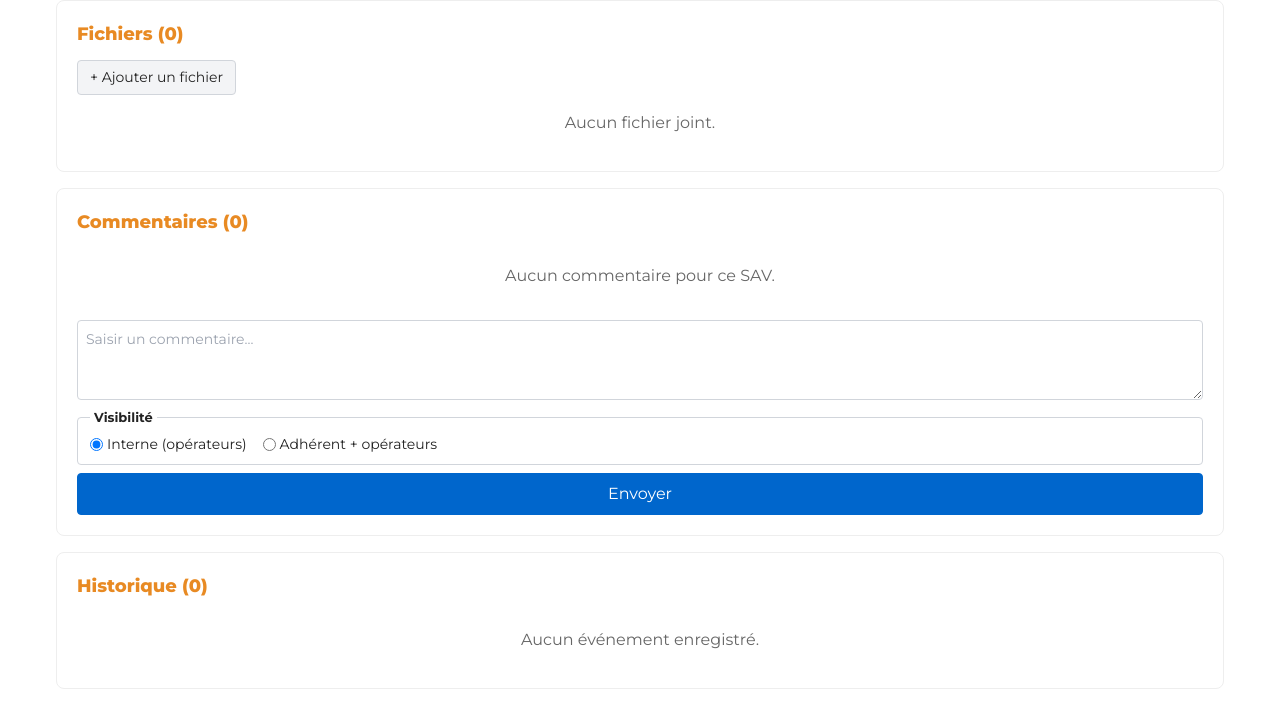
Test: SavDetailView — ComposeCommentForm inline (Story 3.7b AC#14) › SC-03: rollback sur erreur 5xx — optimistic comment removed, toast shown
(page scrolled)
In the text box named "Nouveau commentaire": [640, 360] box [77,320,1203,400], type "Should be rolled back"
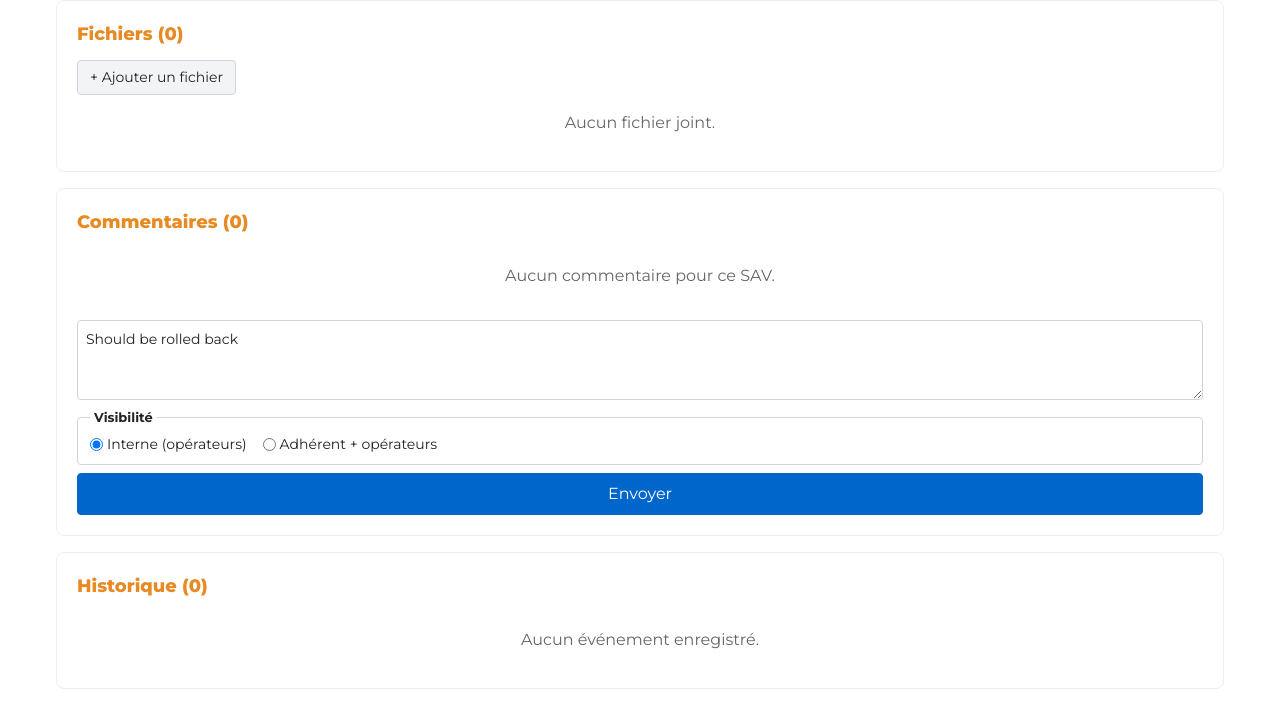
Submit the form, box [77,320,1203,514]
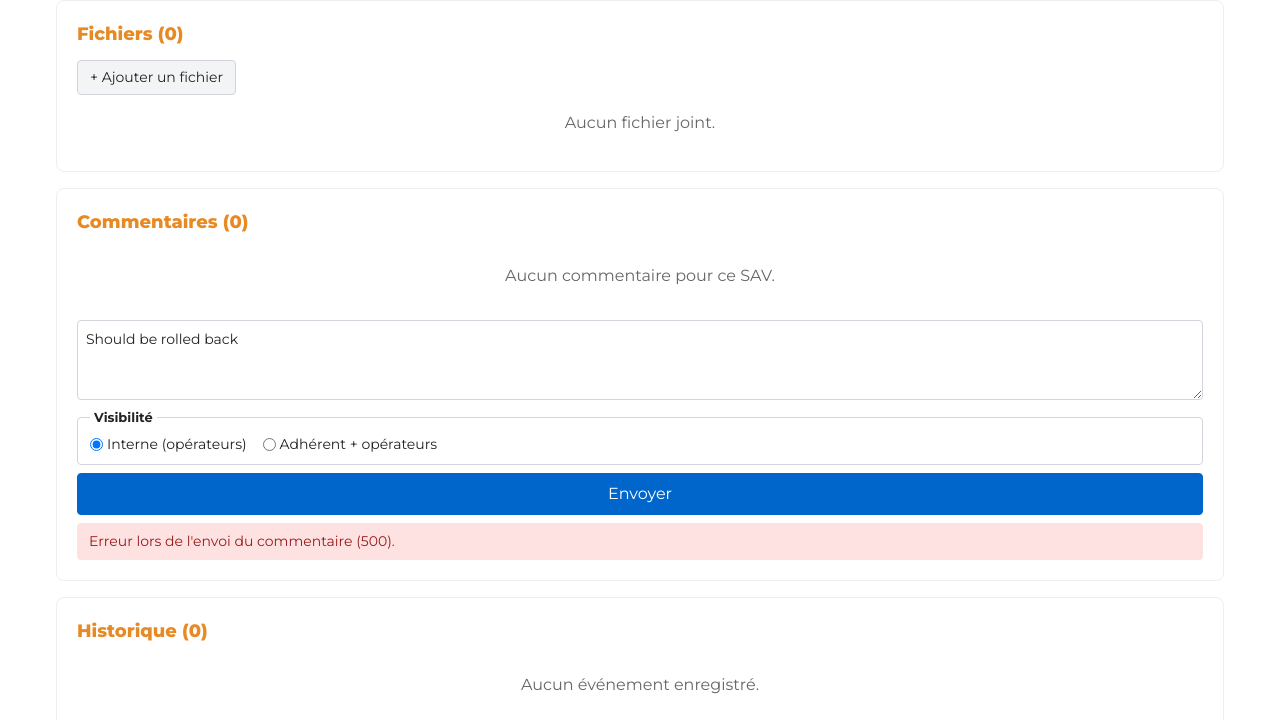
Expected: the message "Erreur lors de l'envoi du commentaire (500). ×" is shown, [77,522,1203,560]
